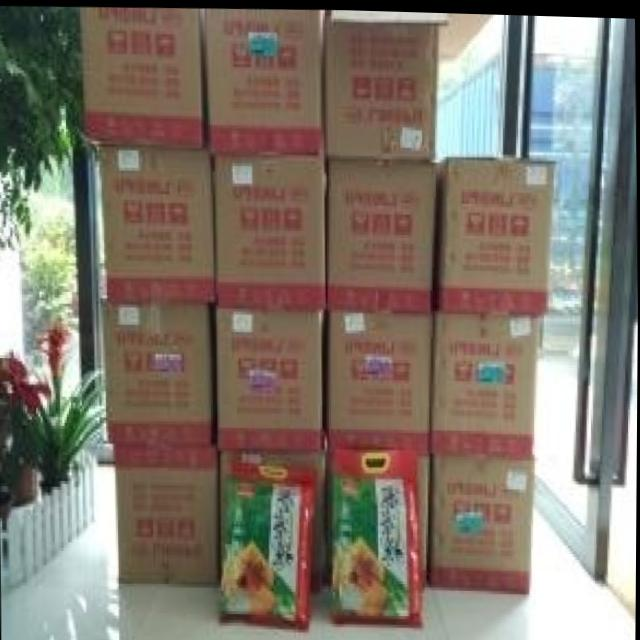box: (437, 154, 555, 314), (322, 7, 440, 159), (215, 152, 326, 310), (101, 146, 214, 301), (202, 7, 322, 147), (80, 6, 200, 146), (328, 156, 437, 308), (103, 294, 214, 443), (214, 304, 323, 447), (432, 311, 540, 454), (113, 443, 220, 586), (327, 307, 430, 453), (432, 450, 537, 591)
